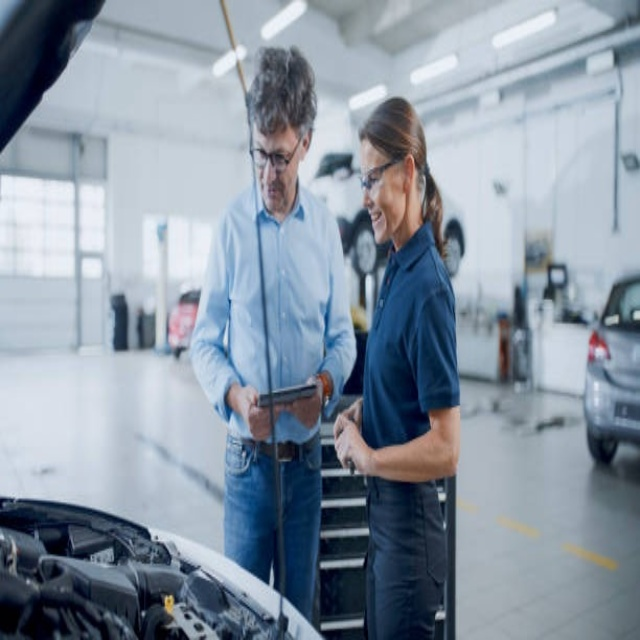Gafas: (250, 129, 305, 170), (357, 155, 405, 193)
Sin_guantes: (246, 386, 304, 443), (330, 414, 362, 474)
Sin_mascara: (258, 177, 283, 216), (367, 203, 389, 240)
